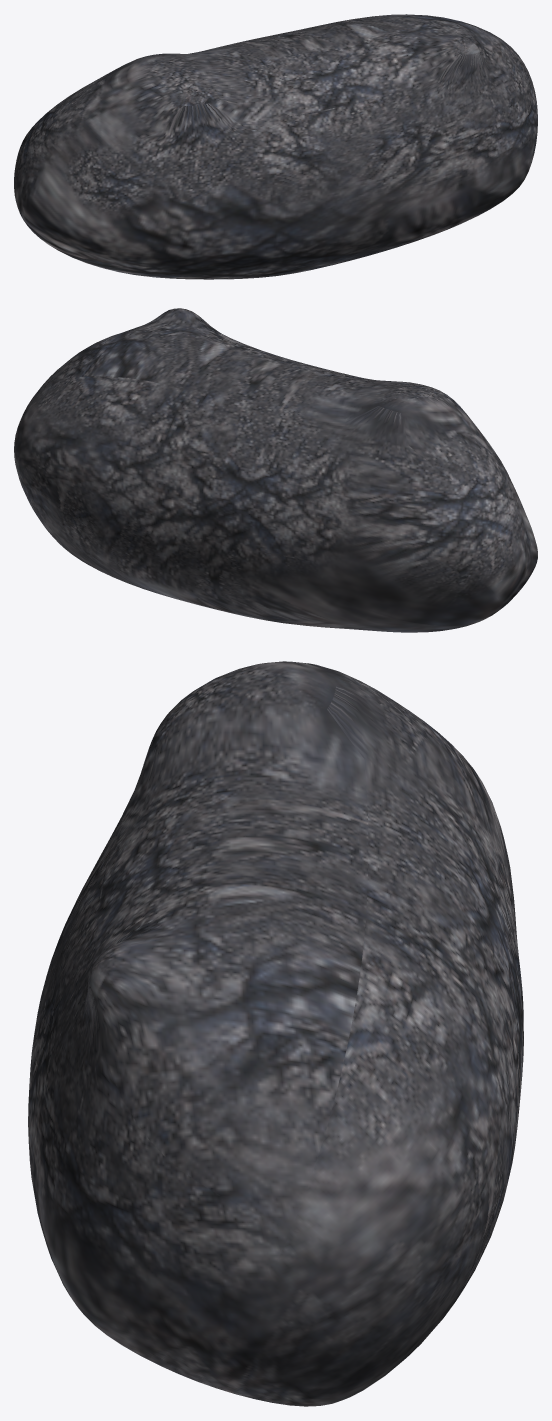
File: asteroid1.fbx
3 renders of one model, top to bottom at view 1: azimuth 30°, elevation 25°; view 2: azimuth 150°, elevation 25°; view 3: azimuth 270°, elevation 25°, orthographic. The views are drawn at different scales.
Visible parts, largest first — view 1: Sphere; view 2: Sphere; view 3: Sphere.
Part boxes in pixels (x1,y1,x2,y2): Sphere: (14, 14, 537, 279); Sphere: (14, 308, 537, 632); Sphere: (28, 661, 523, 1406).
Size of the model in its own units: 948 by 432 by 418.
